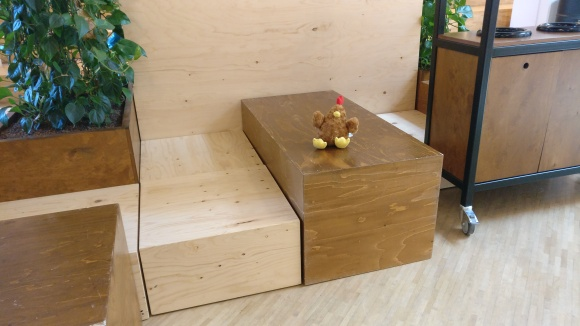chicken: (311, 94, 360, 150)
